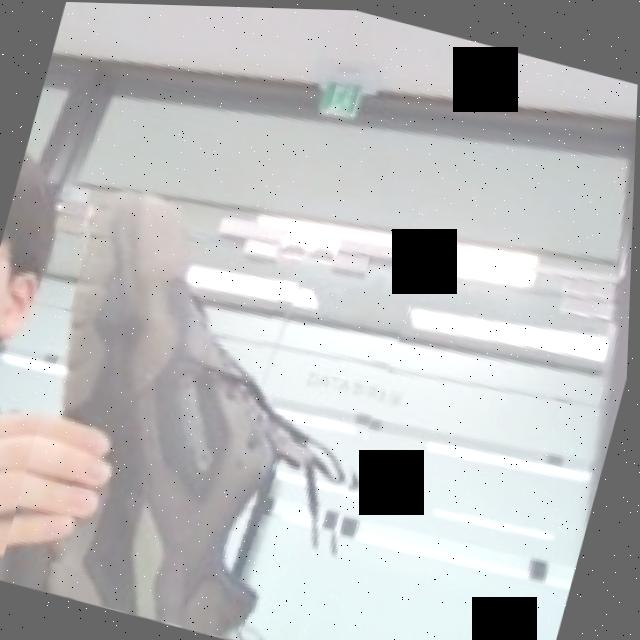shoe: (0, 176, 429, 640)
